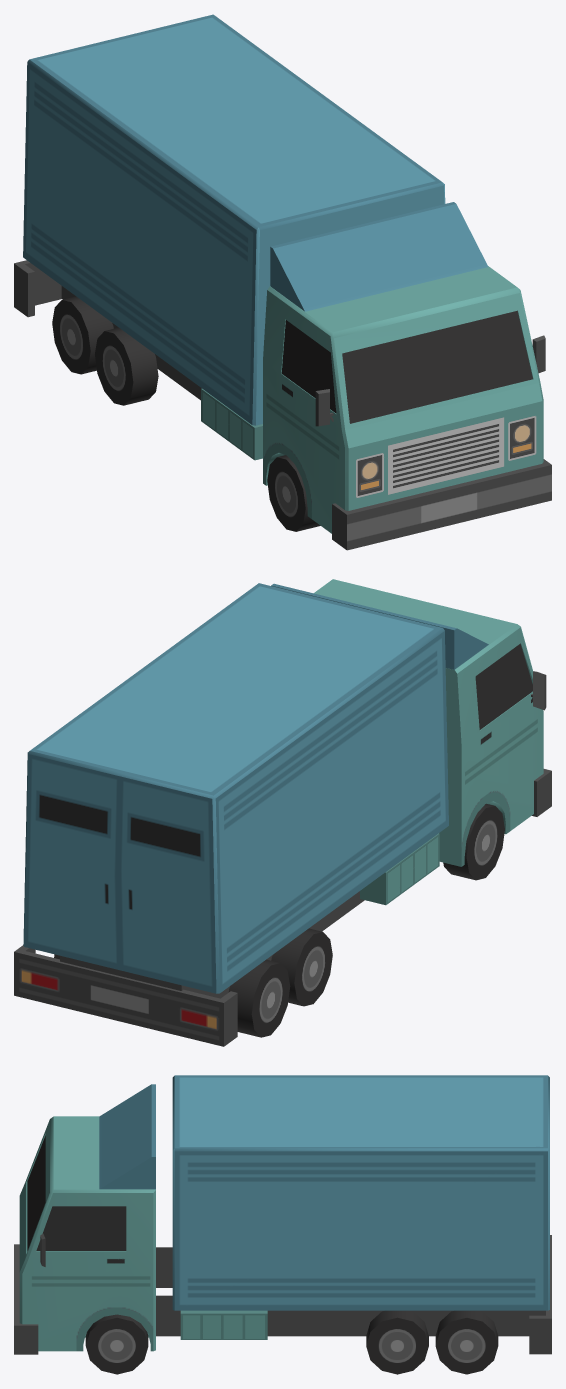
The model's file is Truck.fbx.
The picture shows the model from 3 angles, top to bottom: view 1: azimuth 30°, elevation 25°; view 2: azimuth 150°, elevation 25°; view 3: azimuth 270°, elevation 25°; orthographic projection. The views are drawn at different scales.
Parts seen in each view (by area): view 1: Body, Wheel_RR1, Wheel_RR2, Wheel_FR; view 2: Body, Wheel_RR2, Wheel_RR1, Wheel_FR; view 3: Body, Wheel_RL2, Wheel_RL1, Wheel_FL.
Part boxes in pixels (left/top/right/bottom): Body: left=14, top=14, right=551, bottom=550; Wheel_RR1: left=95, top=327, right=158, bottom=405; Wheel_RR2: left=52, top=296, right=113, bottom=374; Wheel_FR: left=267, top=455, right=320, bottom=531; Body: left=14, top=579, right=551, bottom=1046; Wheel_RR2: left=228, top=959, right=290, bottom=1037; Wheel_RR1: left=271, top=928, right=332, bottom=1006; Wheel_FR: left=443, top=803, right=504, bottom=880; Body: left=14, top=1075, right=551, bottom=1354; Wheel_RL2: left=435, top=1310, right=498, bottom=1374; Wheel_RL1: left=366, top=1310, right=428, bottom=1374; Wheel_FL: left=85, top=1314, right=148, bottom=1374.
Size of the model in its own units: 363 by 416 by 909.
